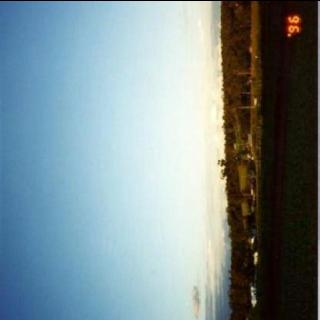Stratocumulus: (0, 0, 236, 320)
